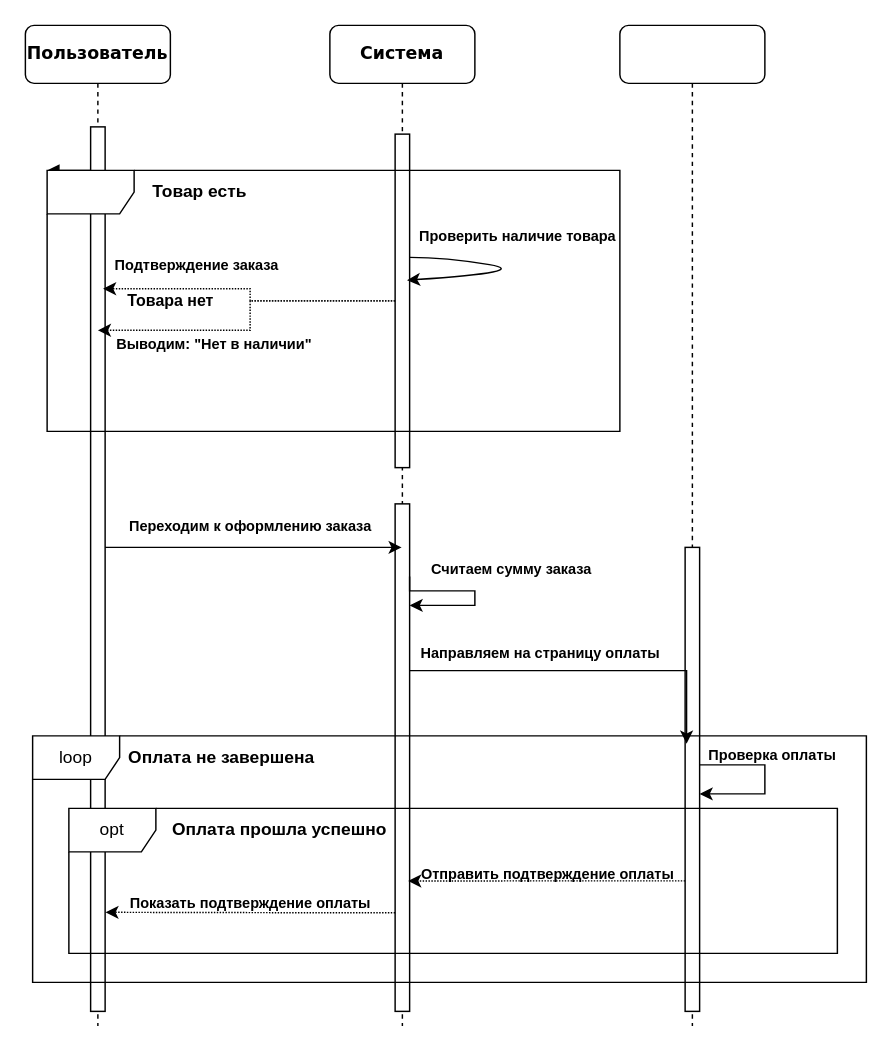
This 892x1051 diagram has some shape labels left out. The box of each missing label's shape, as (x1, y1, x2, y2) in pixels:
alt: (46, 169, 620, 431)
Платежная система: (618, 24, 765, 1026)
